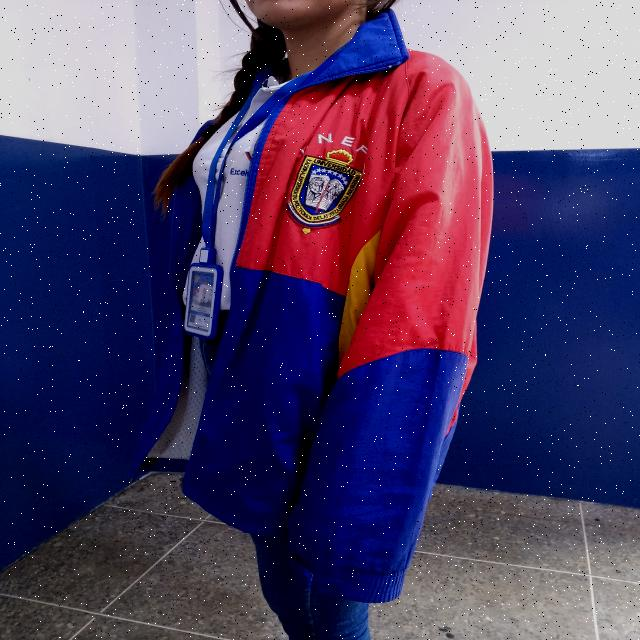carnet: (184, 267, 219, 335)
chaqueta_unefa: (129, 7, 495, 603)
